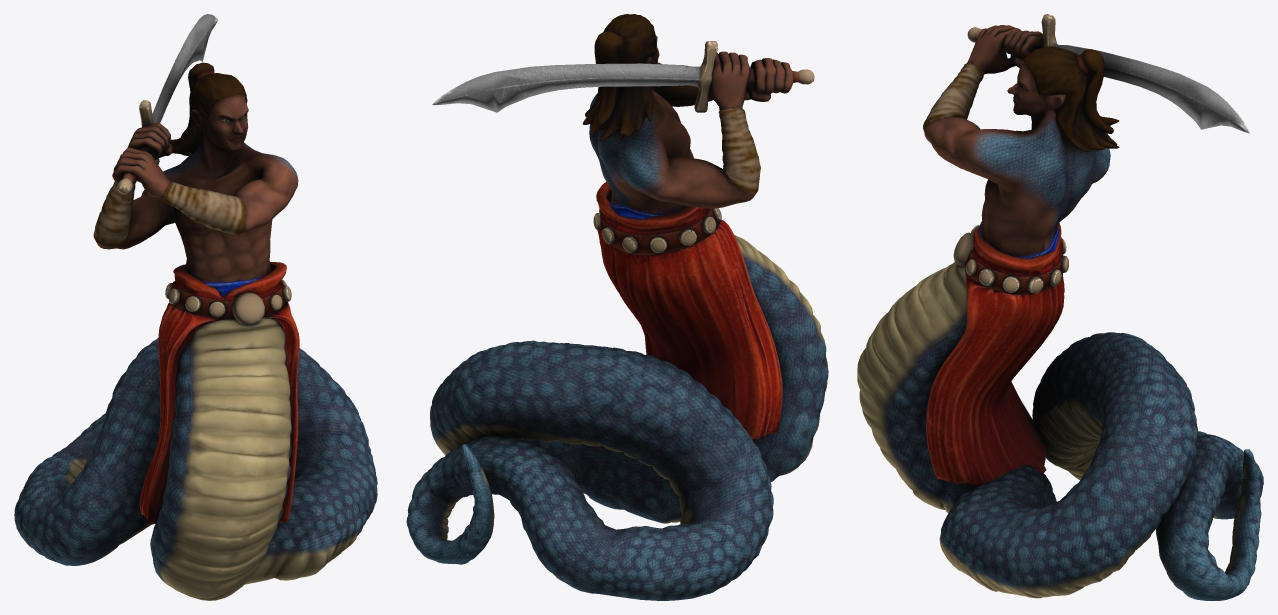
File: MZ4250 - Yuan Ti Malison Male Type 3.glb
The picture shows the model from 3 angles, left to right: view 1: azimuth 30°, elevation 25°; view 2: azimuth 150°, elevation 25°; view 3: azimuth 270°, elevation 25°; orthographic projection. The views are drawn at different scales.
Parts seen in each view (by area): view 1: Body.001; view 2: Body.001; view 3: Body.001.
Part boxes in pixels (<box>): Body.001: <box>14,14,377,600</box>; Body.001: <box>406,14,828,600</box>; Body.001: <box>857,14,1263,600</box>.
Bounding box in the file's own units: 0.6498 × 0.9665 × 0.7045.
Materials: 1 (1 with a texture image).
